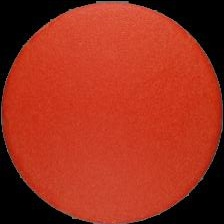16590-437: (0, 0, 224, 224)
